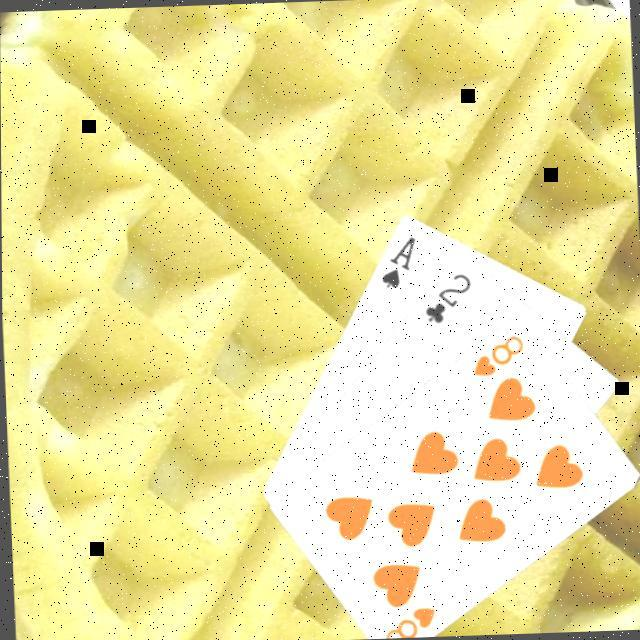2C: (420, 266, 477, 324)
8H: (469, 329, 529, 377), (381, 599, 440, 638)
AS: (377, 230, 421, 289)
